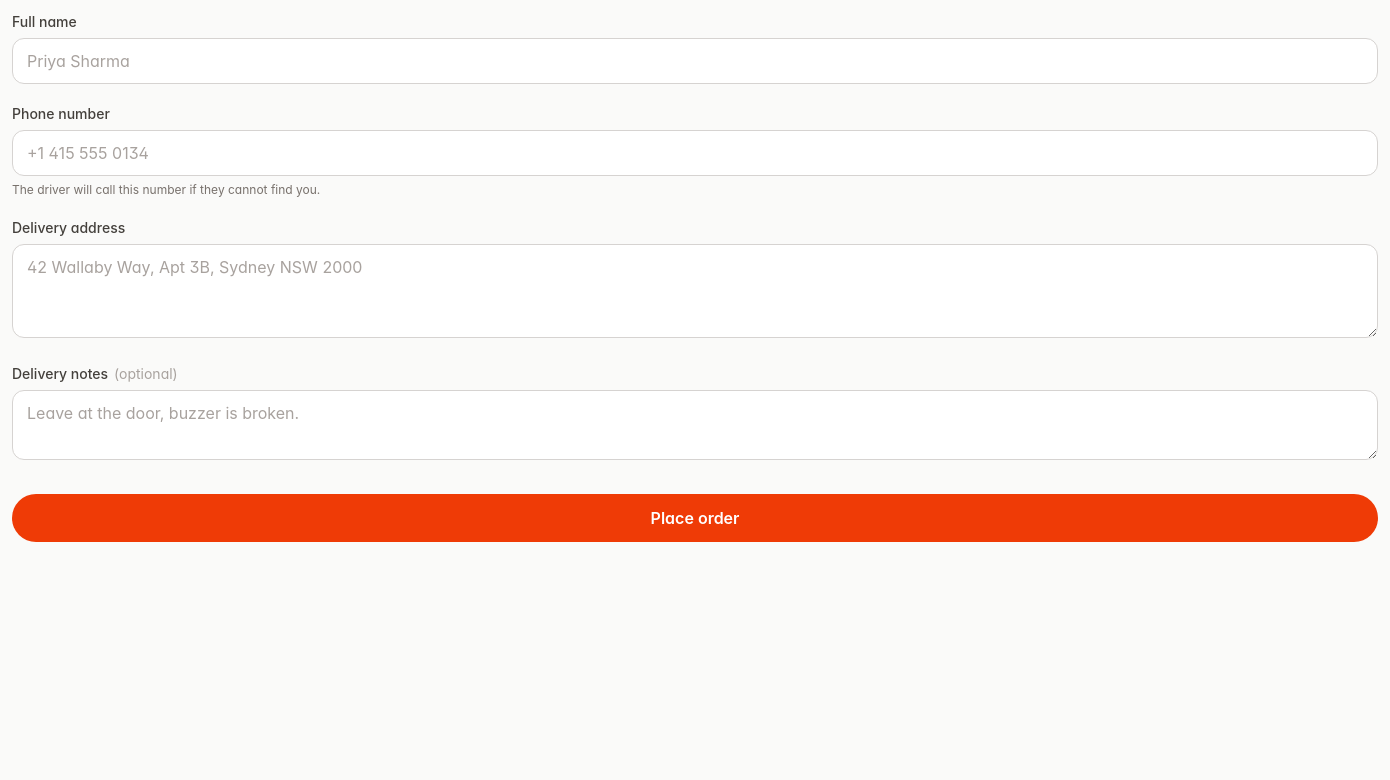
it: validation timing › validates a field once it loses focus
This screenshot has width=1390, height=780.
Step 1. Type "12" into the field labelled "Phone number" → (695, 153), box [12, 130, 1378, 176]
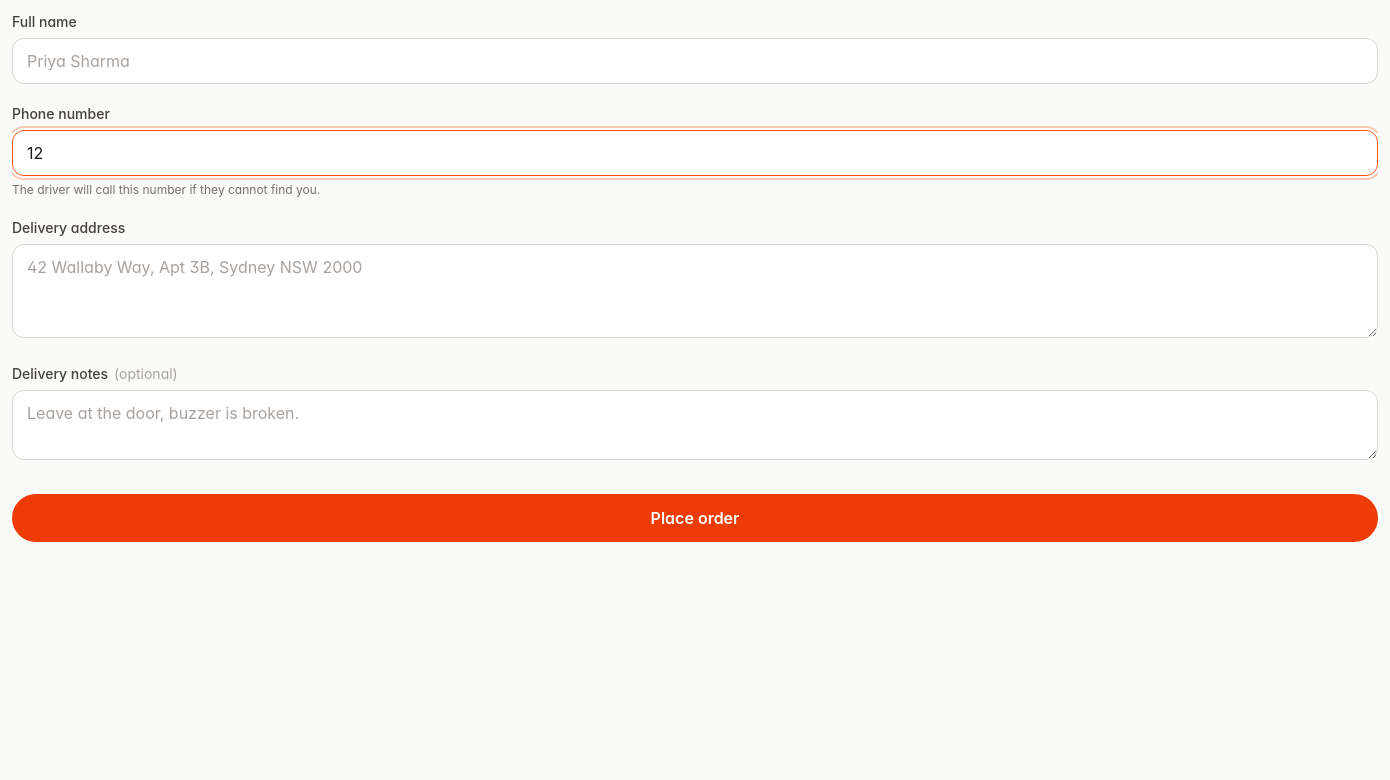
Step 2. Press Tab
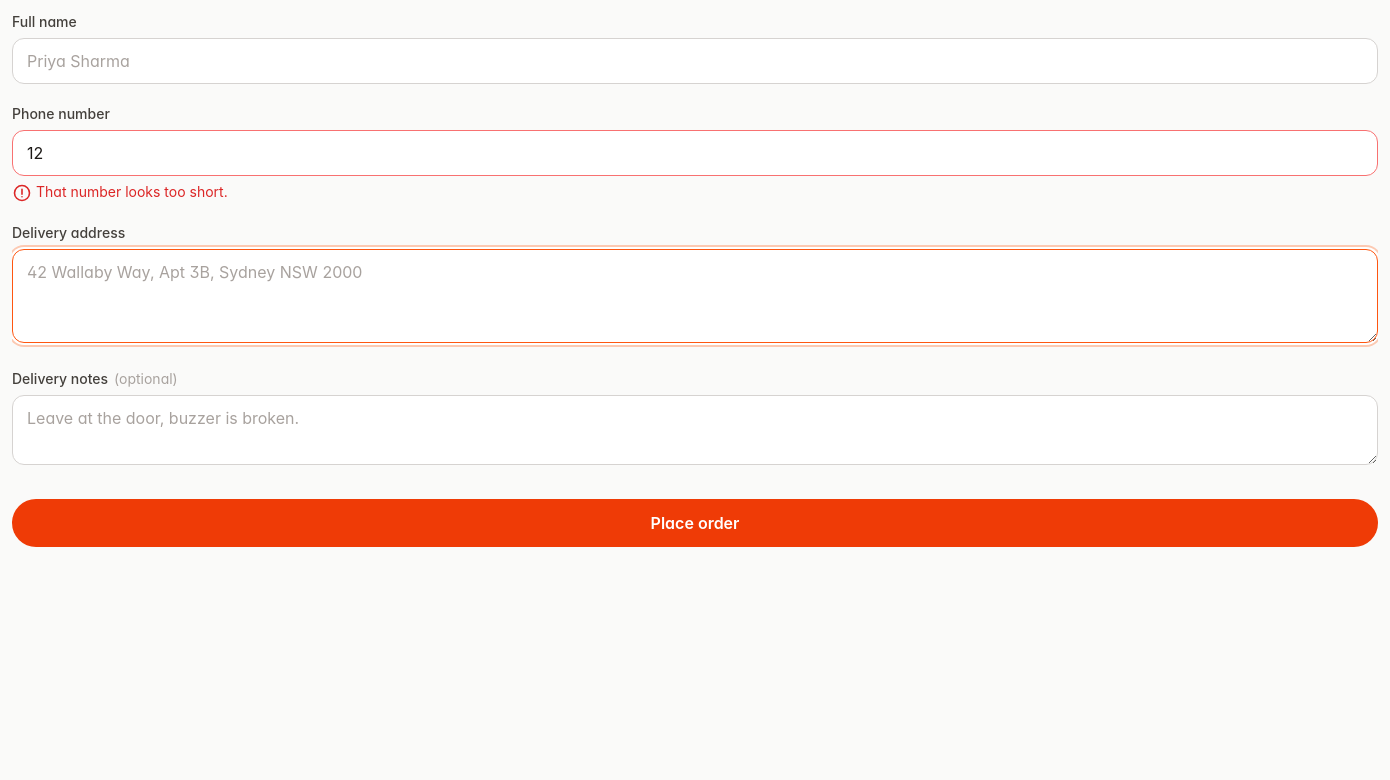
Check: the text "That number looks too short." is shown, box [12, 183, 228, 203]
